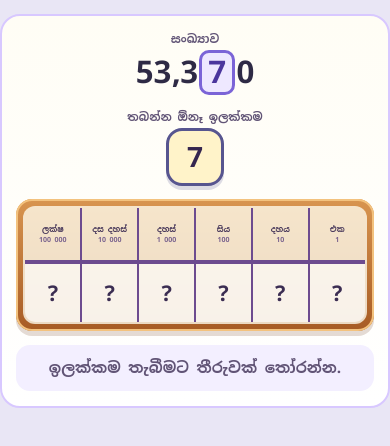
Test: Number World place-value table › starts neutral and lets the learner replace their selected place
What coordinates should you click on to do the following:
click the 4th button "?"
I would click on:
 (223, 293)
Its box is left=196, top=264, right=251, bottom=322.
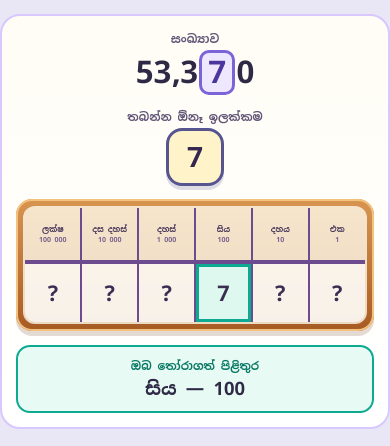
Now the element showing "ඔබ තෝරාගත් පිළිතුර සිය — 100" is shown, box left=16, top=345, right=374, bottom=413
What coordinates should you click on to do the following:
click the 4th button "?"
I would click on:
 (280, 293)
Its box is left=253, top=264, right=308, bottom=322.
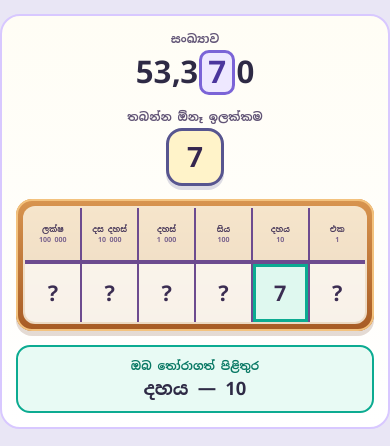
Now the number of cells with class "is-selected" is 1, box left=252, top=263, right=309, bottom=323
Now the element showing "ඔබ තෝරාගත් පිළිතුර දහය — 10" is shown, box left=16, top=345, right=374, bottom=413
